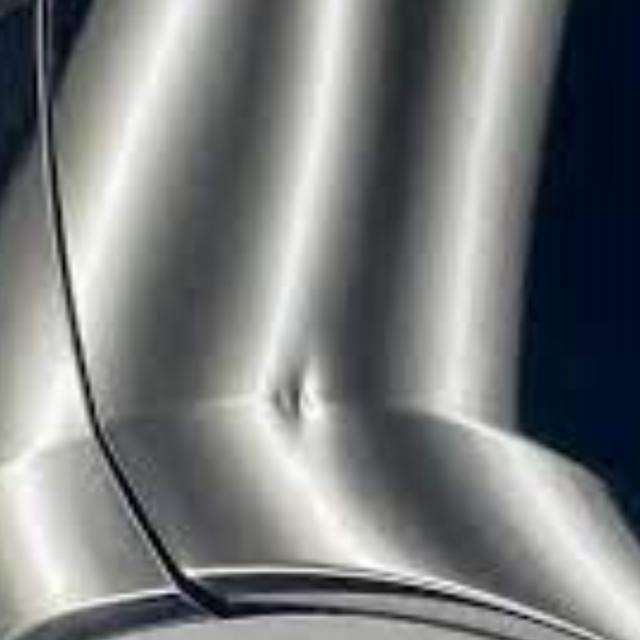dents: (264, 335, 349, 479)
